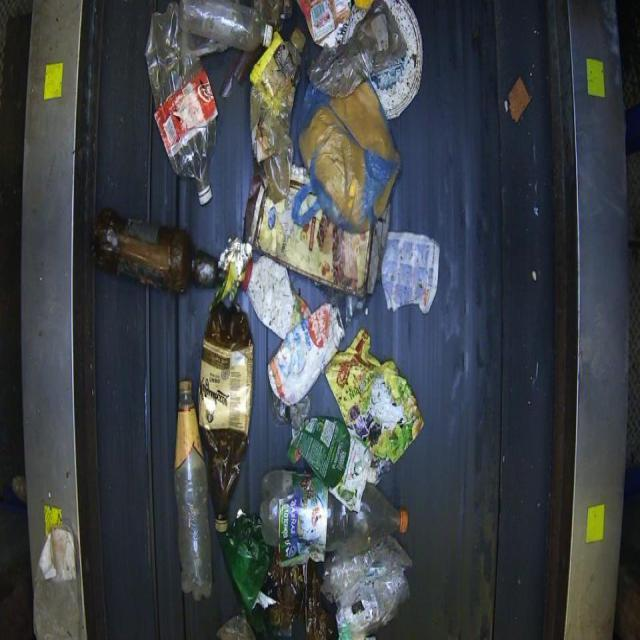bottles: (92, 207, 220, 294), (172, 378, 213, 601)
other-trash: (139, 0, 430, 638)
